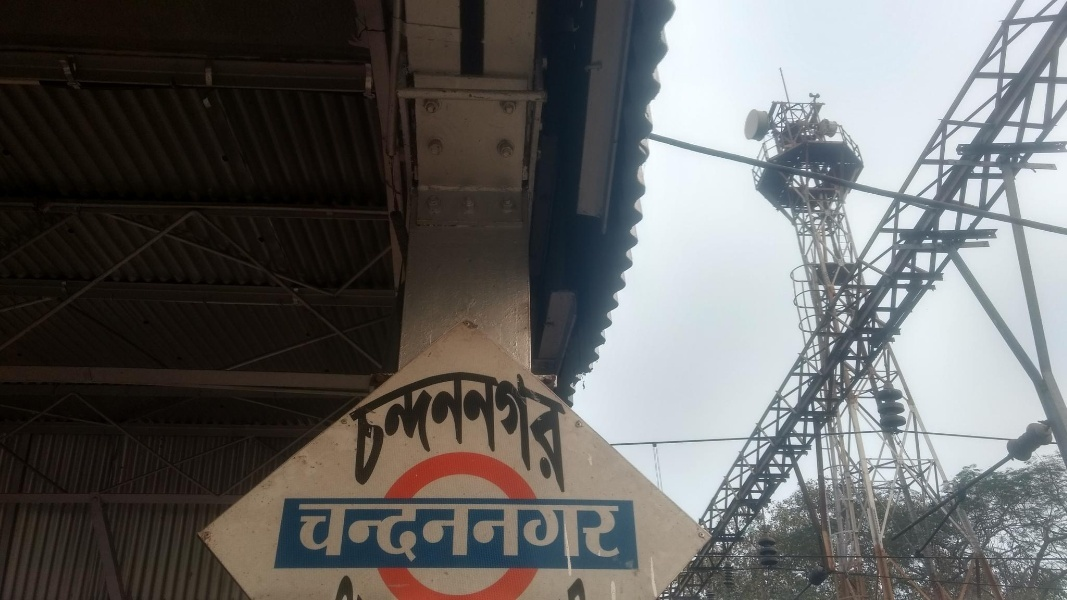text: (561, 362, 577, 498), (353, 362, 368, 498), (369, 362, 384, 498), (385, 362, 400, 498), (401, 362, 416, 498), (417, 362, 432, 498), (433, 362, 448, 498), (449, 362, 464, 498), (465, 362, 480, 498), (481, 362, 496, 498), (497, 362, 512, 498), (513, 362, 528, 498), (529, 362, 544, 498), (545, 362, 560, 498), (342, 362, 352, 498), (289, 499, 304, 569), (305, 499, 320, 569), (321, 499, 336, 569), (337, 499, 352, 569), (353, 499, 368, 569), (369, 499, 384, 569), (385, 499, 400, 569), (401, 499, 416, 569), (417, 499, 432, 569), (433, 499, 448, 569), (449, 499, 464, 569), (465, 499, 480, 569), (481, 499, 496, 569), (497, 499, 512, 569), (513, 499, 528, 569), (529, 499, 544, 569), (545, 499, 560, 569), (561, 499, 576, 569), (577, 499, 592, 569), (593, 499, 608, 569), (609, 499, 624, 569), (625, 499, 632, 569), (285, 499, 288, 569)
